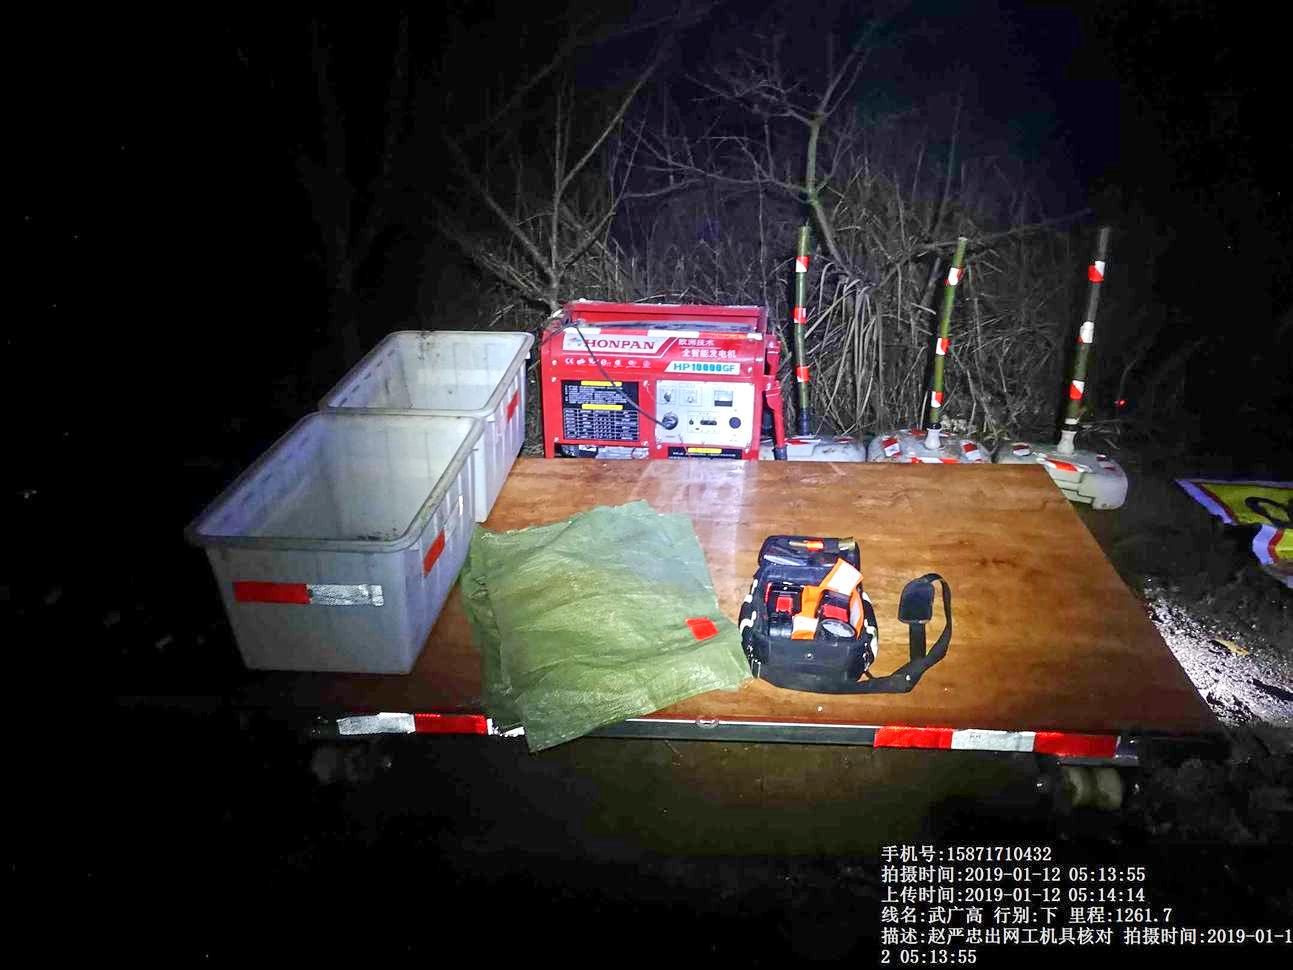BZD: (460, 505, 741, 722)
DJ: (528, 286, 773, 463)
GJB: (741, 519, 960, 702)
ST: (1015, 212, 1147, 511), (866, 220, 1005, 468), (764, 220, 872, 467)
T: (212, 413, 471, 676), (346, 311, 527, 444)
